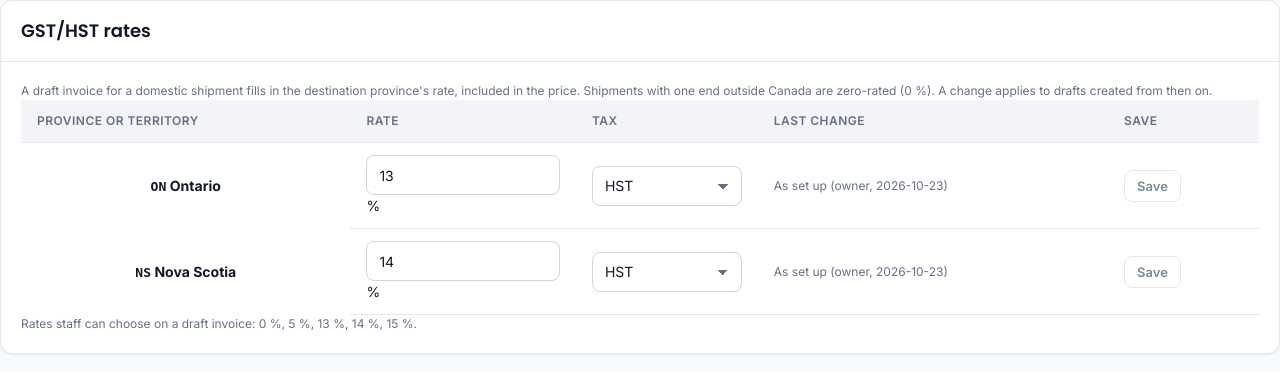
Test: Settings → GST/HST rates › lets Admin change a rate and sends it to the server
Expected: the button with aria-label "Save the rate for Ontario" is disabled, [1124, 170, 1181, 202]
Replace the text in the field named "Rate for Ontario (percent)" next to "Ontario" with "31". click: (463, 175)
box: [366, 155, 560, 195]
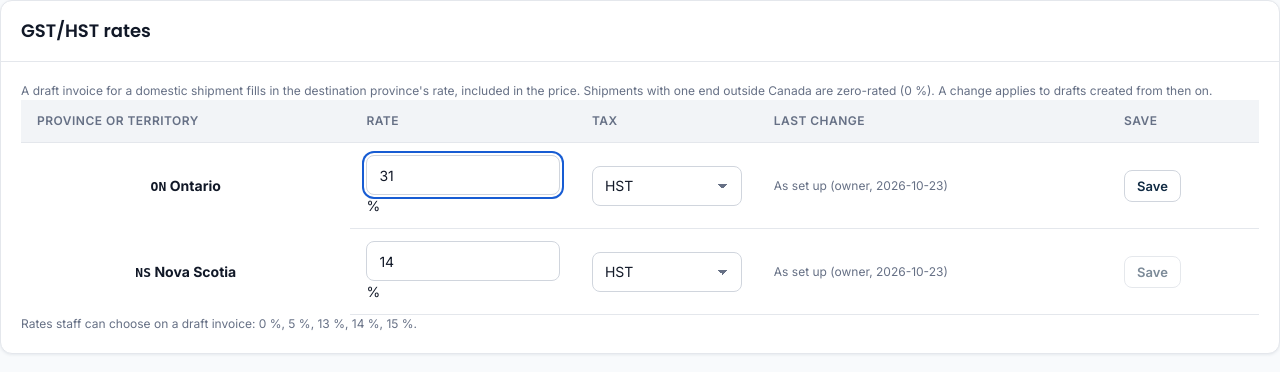
Click the button with aria-label "Save the rate for Ontario". click: (1152, 186)
box: [1124, 170, 1181, 202]
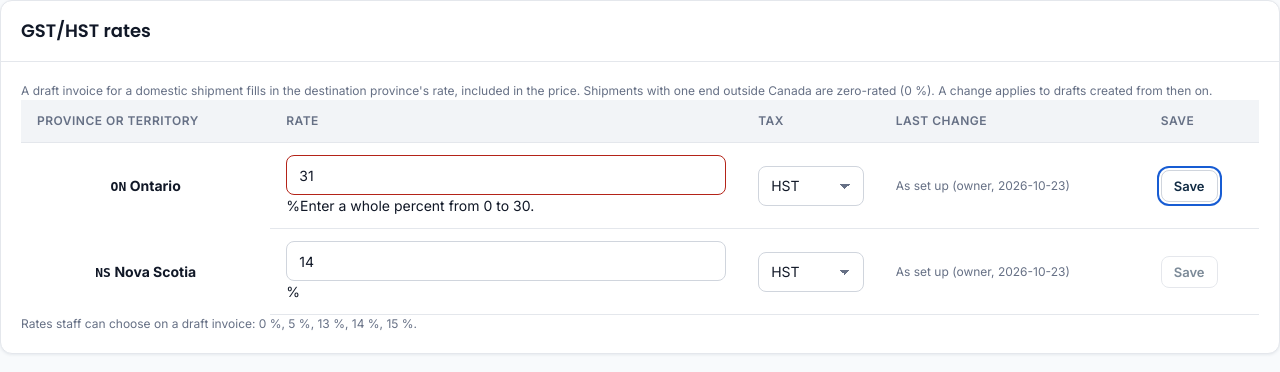
Expected: the field named "Rate for Ontario (percent)" next to "Ontario" is marked as invalid
Clear the field named "Rate for Ontario (percent)" next to "Ontario". click: (506, 175)
box: [286, 155, 726, 195]
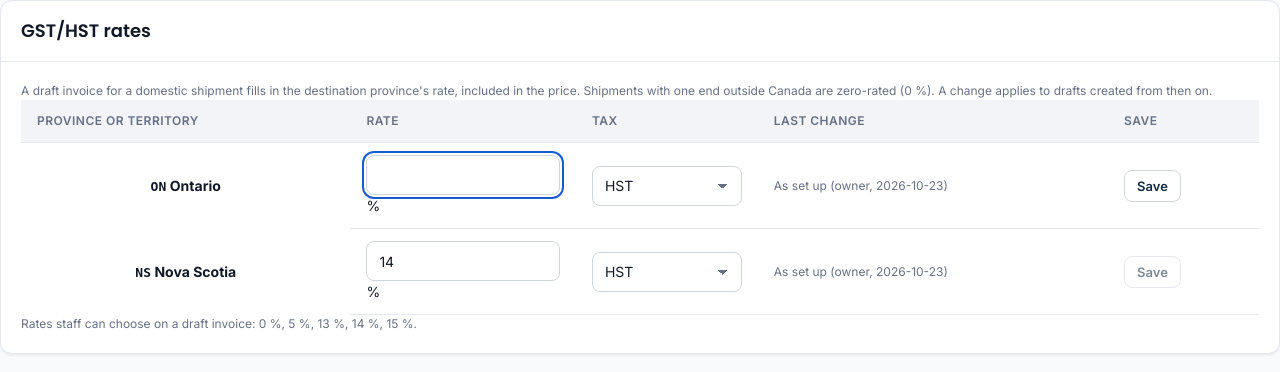
Type "15" into the field named "Rate for Ontario (percent)" next to "Ontario". click: (463, 175)
box: [366, 155, 560, 195]
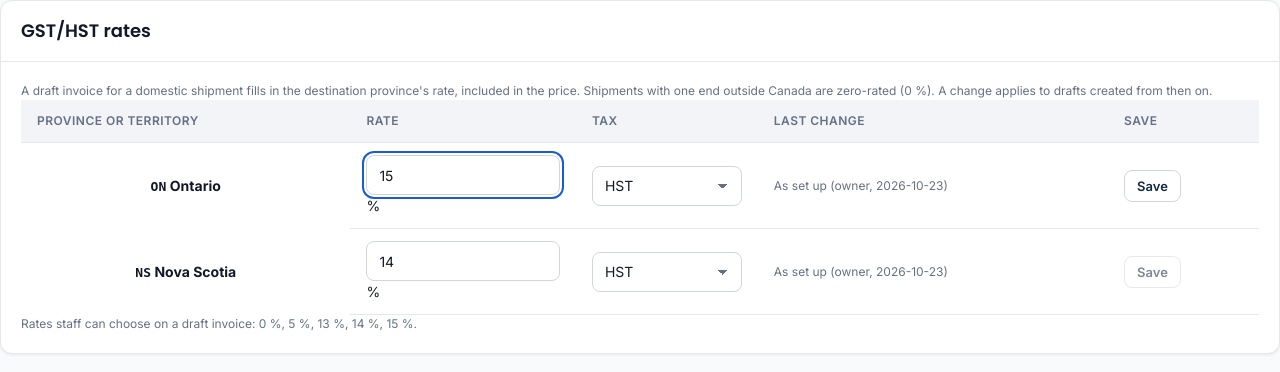
Click the button with aria-label "Save the rate for Ontario". click: (1152, 186)
box: [1124, 170, 1181, 202]
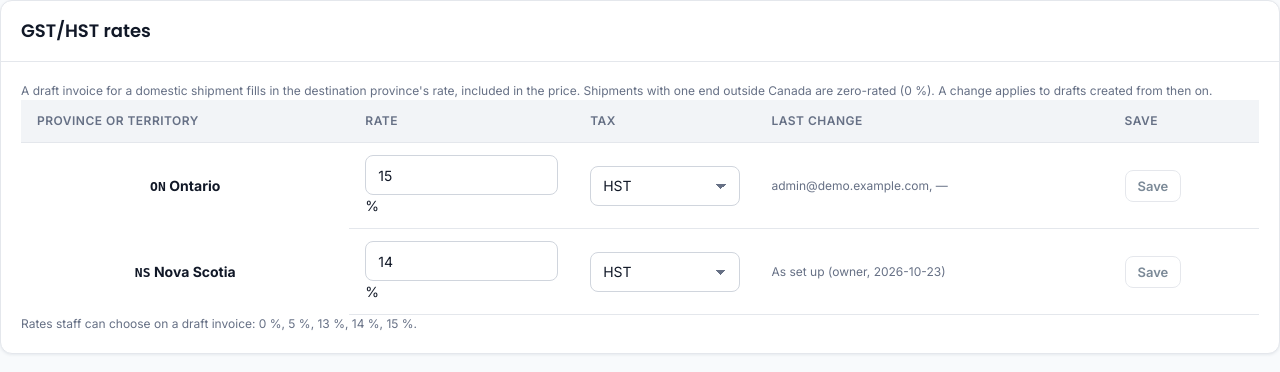
Expected: the row "ON Ontario % admin@demo.example.com, — Save" is shown, [21, 143, 1259, 228]
